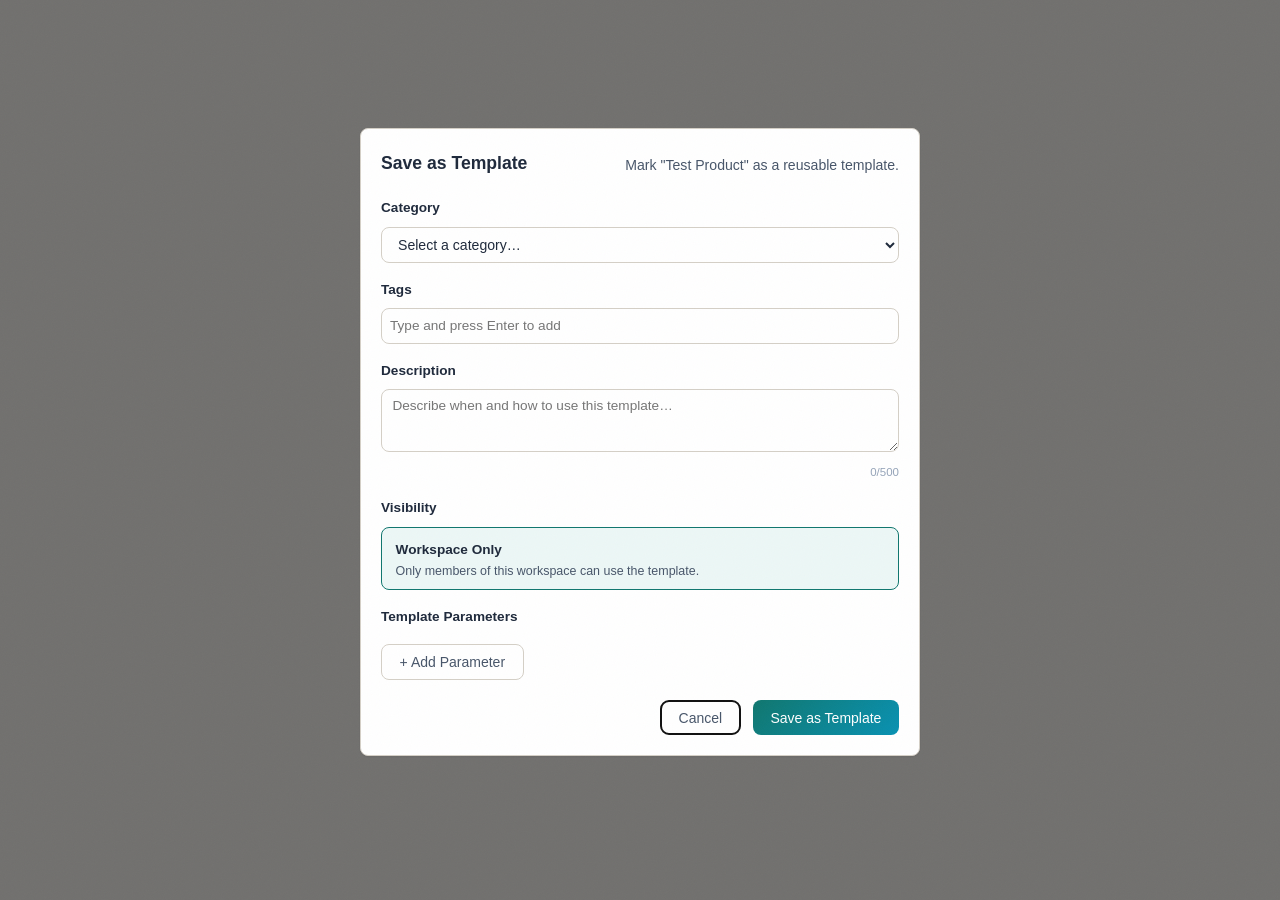
Test: TemplateConfigDialog › removes a parameter row
This screenshot has width=1280, height=900.
Click the button "+ Add Parameter" at (452, 662), box [381,644,524,680]
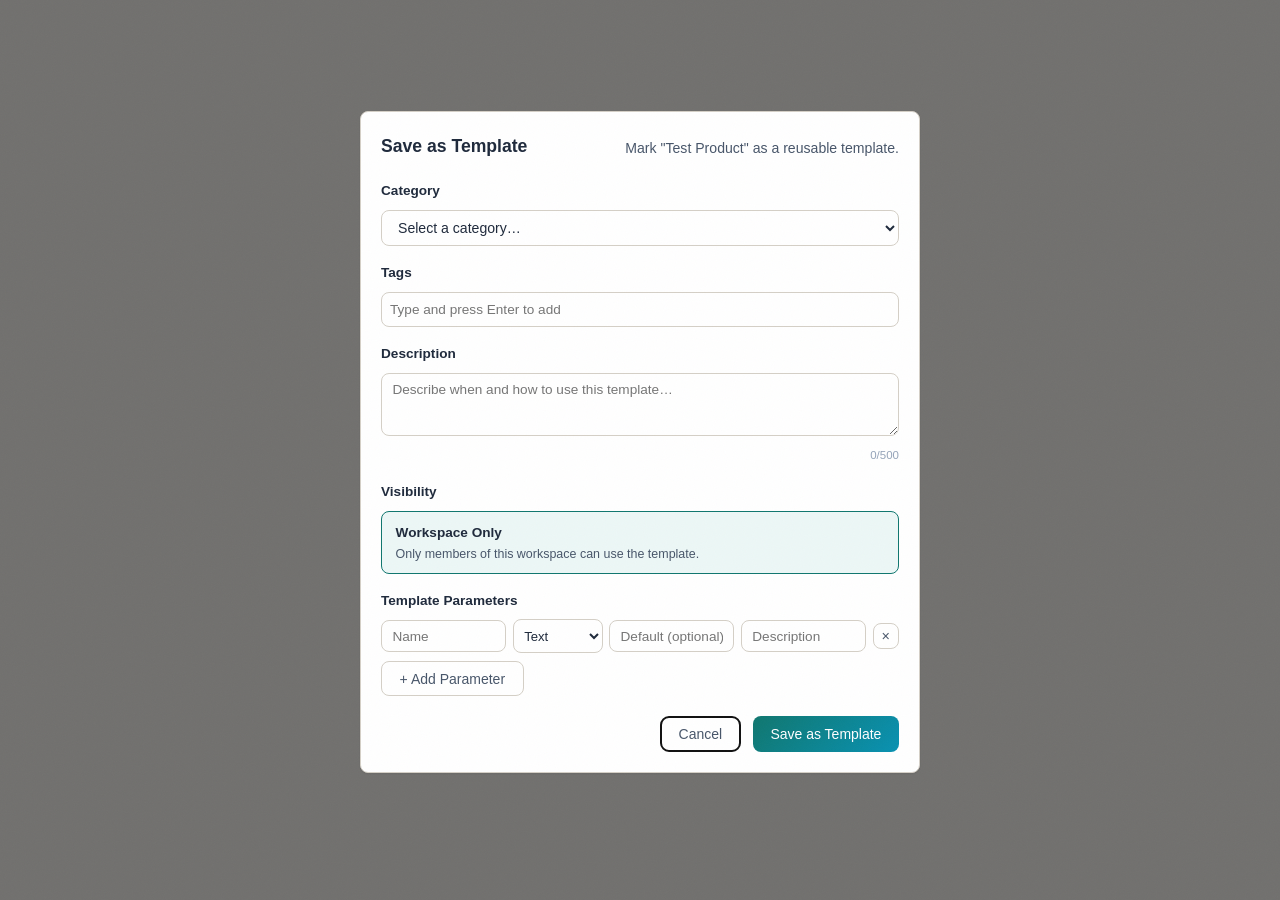
Now the field named "Parameter 1 name" is shown, box [381,620,506,652]
Click the button named "Remove parameter 1" at (886, 636), box [873,623,899,649]
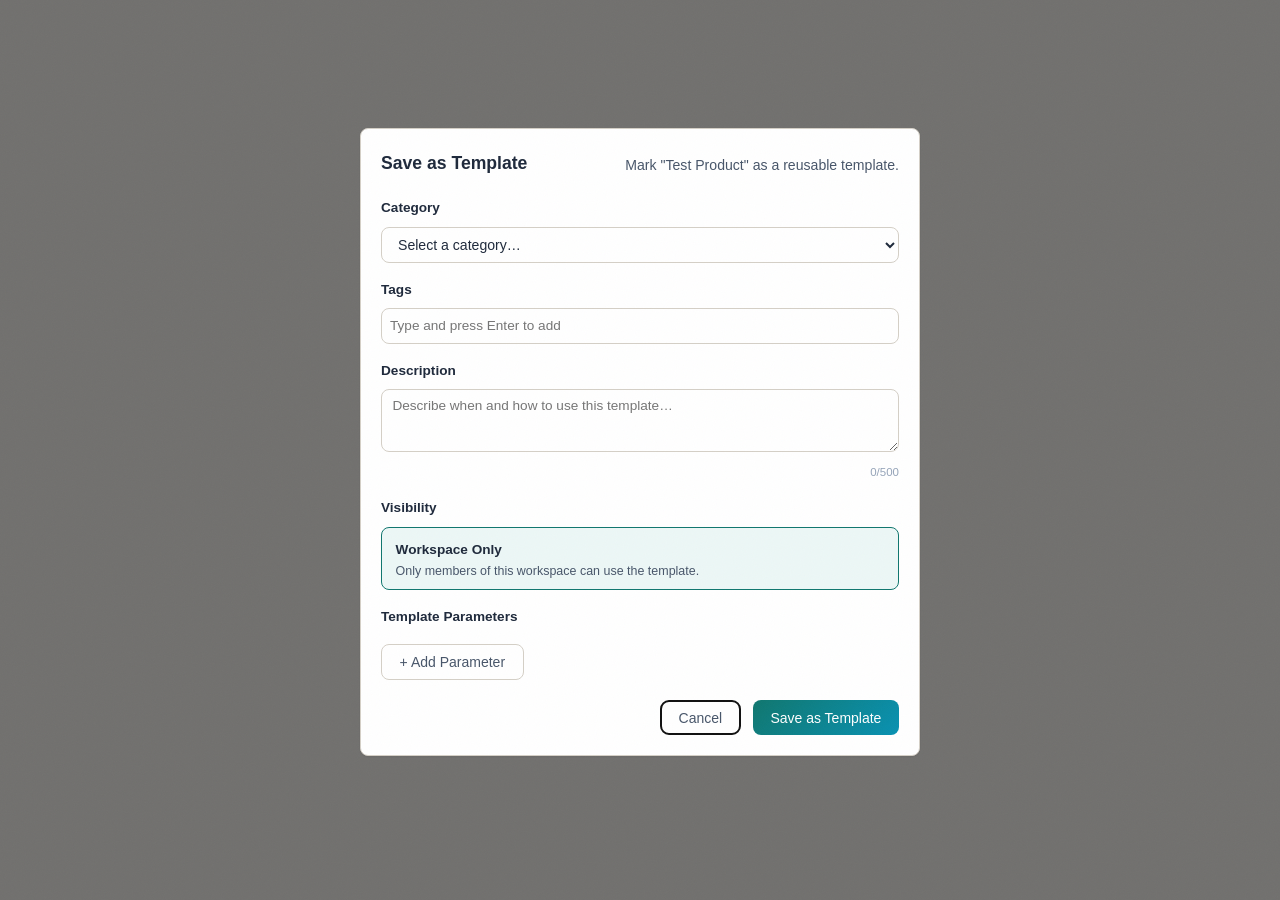
Now the field labelled "Parameter 1 name" is gone
